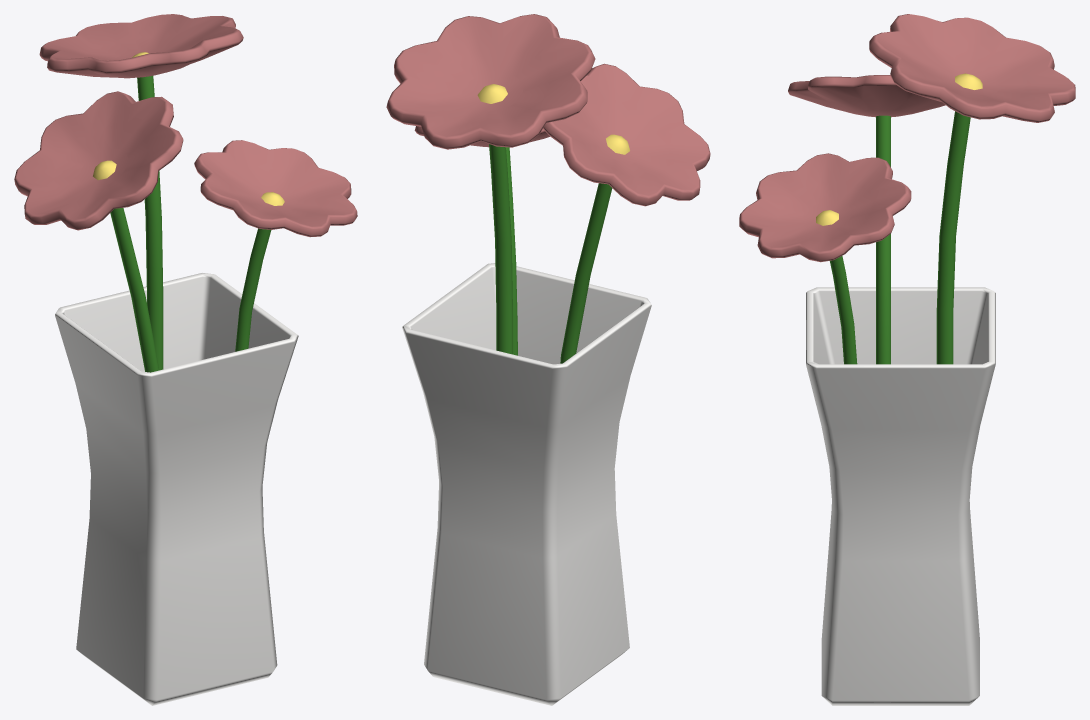
Rendered from Flower_Vase_with_Flowers_3.glb.
3 renders of one model, left to right at view 1: azimuth 30°, elevation 25°; view 2: azimuth 150°, elevation 25°; view 3: azimuth 270°, elevation 25°, orthographic. The views are drawn at different scales.
Parts seen in each view (by area): view 1: Vase_with_Flowers_3; view 2: Vase_with_Flowers_3; view 3: Vase_with_Flowers_3.
Part boxes in pixels (x1,y1,x2,y2): Vase_with_Flowers_3: (14, 14, 357, 705); Vase_with_Flowers_3: (386, 14, 710, 705); Vase_with_Flowers_3: (739, 14, 1075, 705).
Size of the model in its own units: 0.3659 by 0.748 by 0.3572.
Materials: 2 (2 with a texture image).
